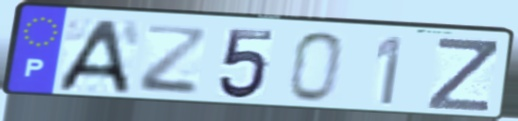0: (285, 29, 351, 106)
1: (373, 34, 406, 108)
5: (215, 26, 278, 99)
A: (53, 18, 134, 95)
Z: (424, 35, 500, 114), (135, 23, 211, 98)
